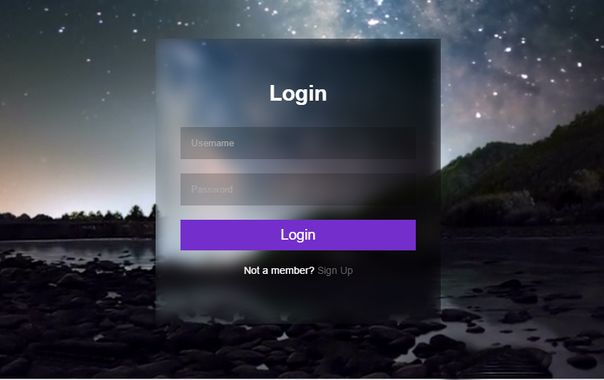_form_: (104, 1, 521, 380)
button: (177, 218, 418, 253)
field: (178, 122, 418, 163), (178, 172, 421, 208)
